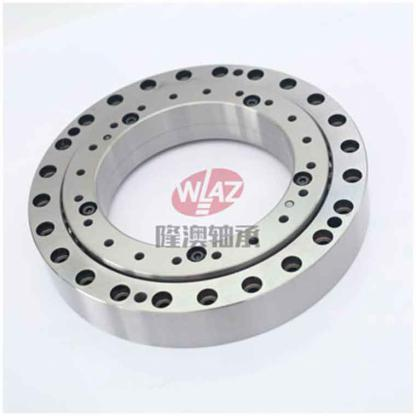FOD: (23, 59, 376, 350)
